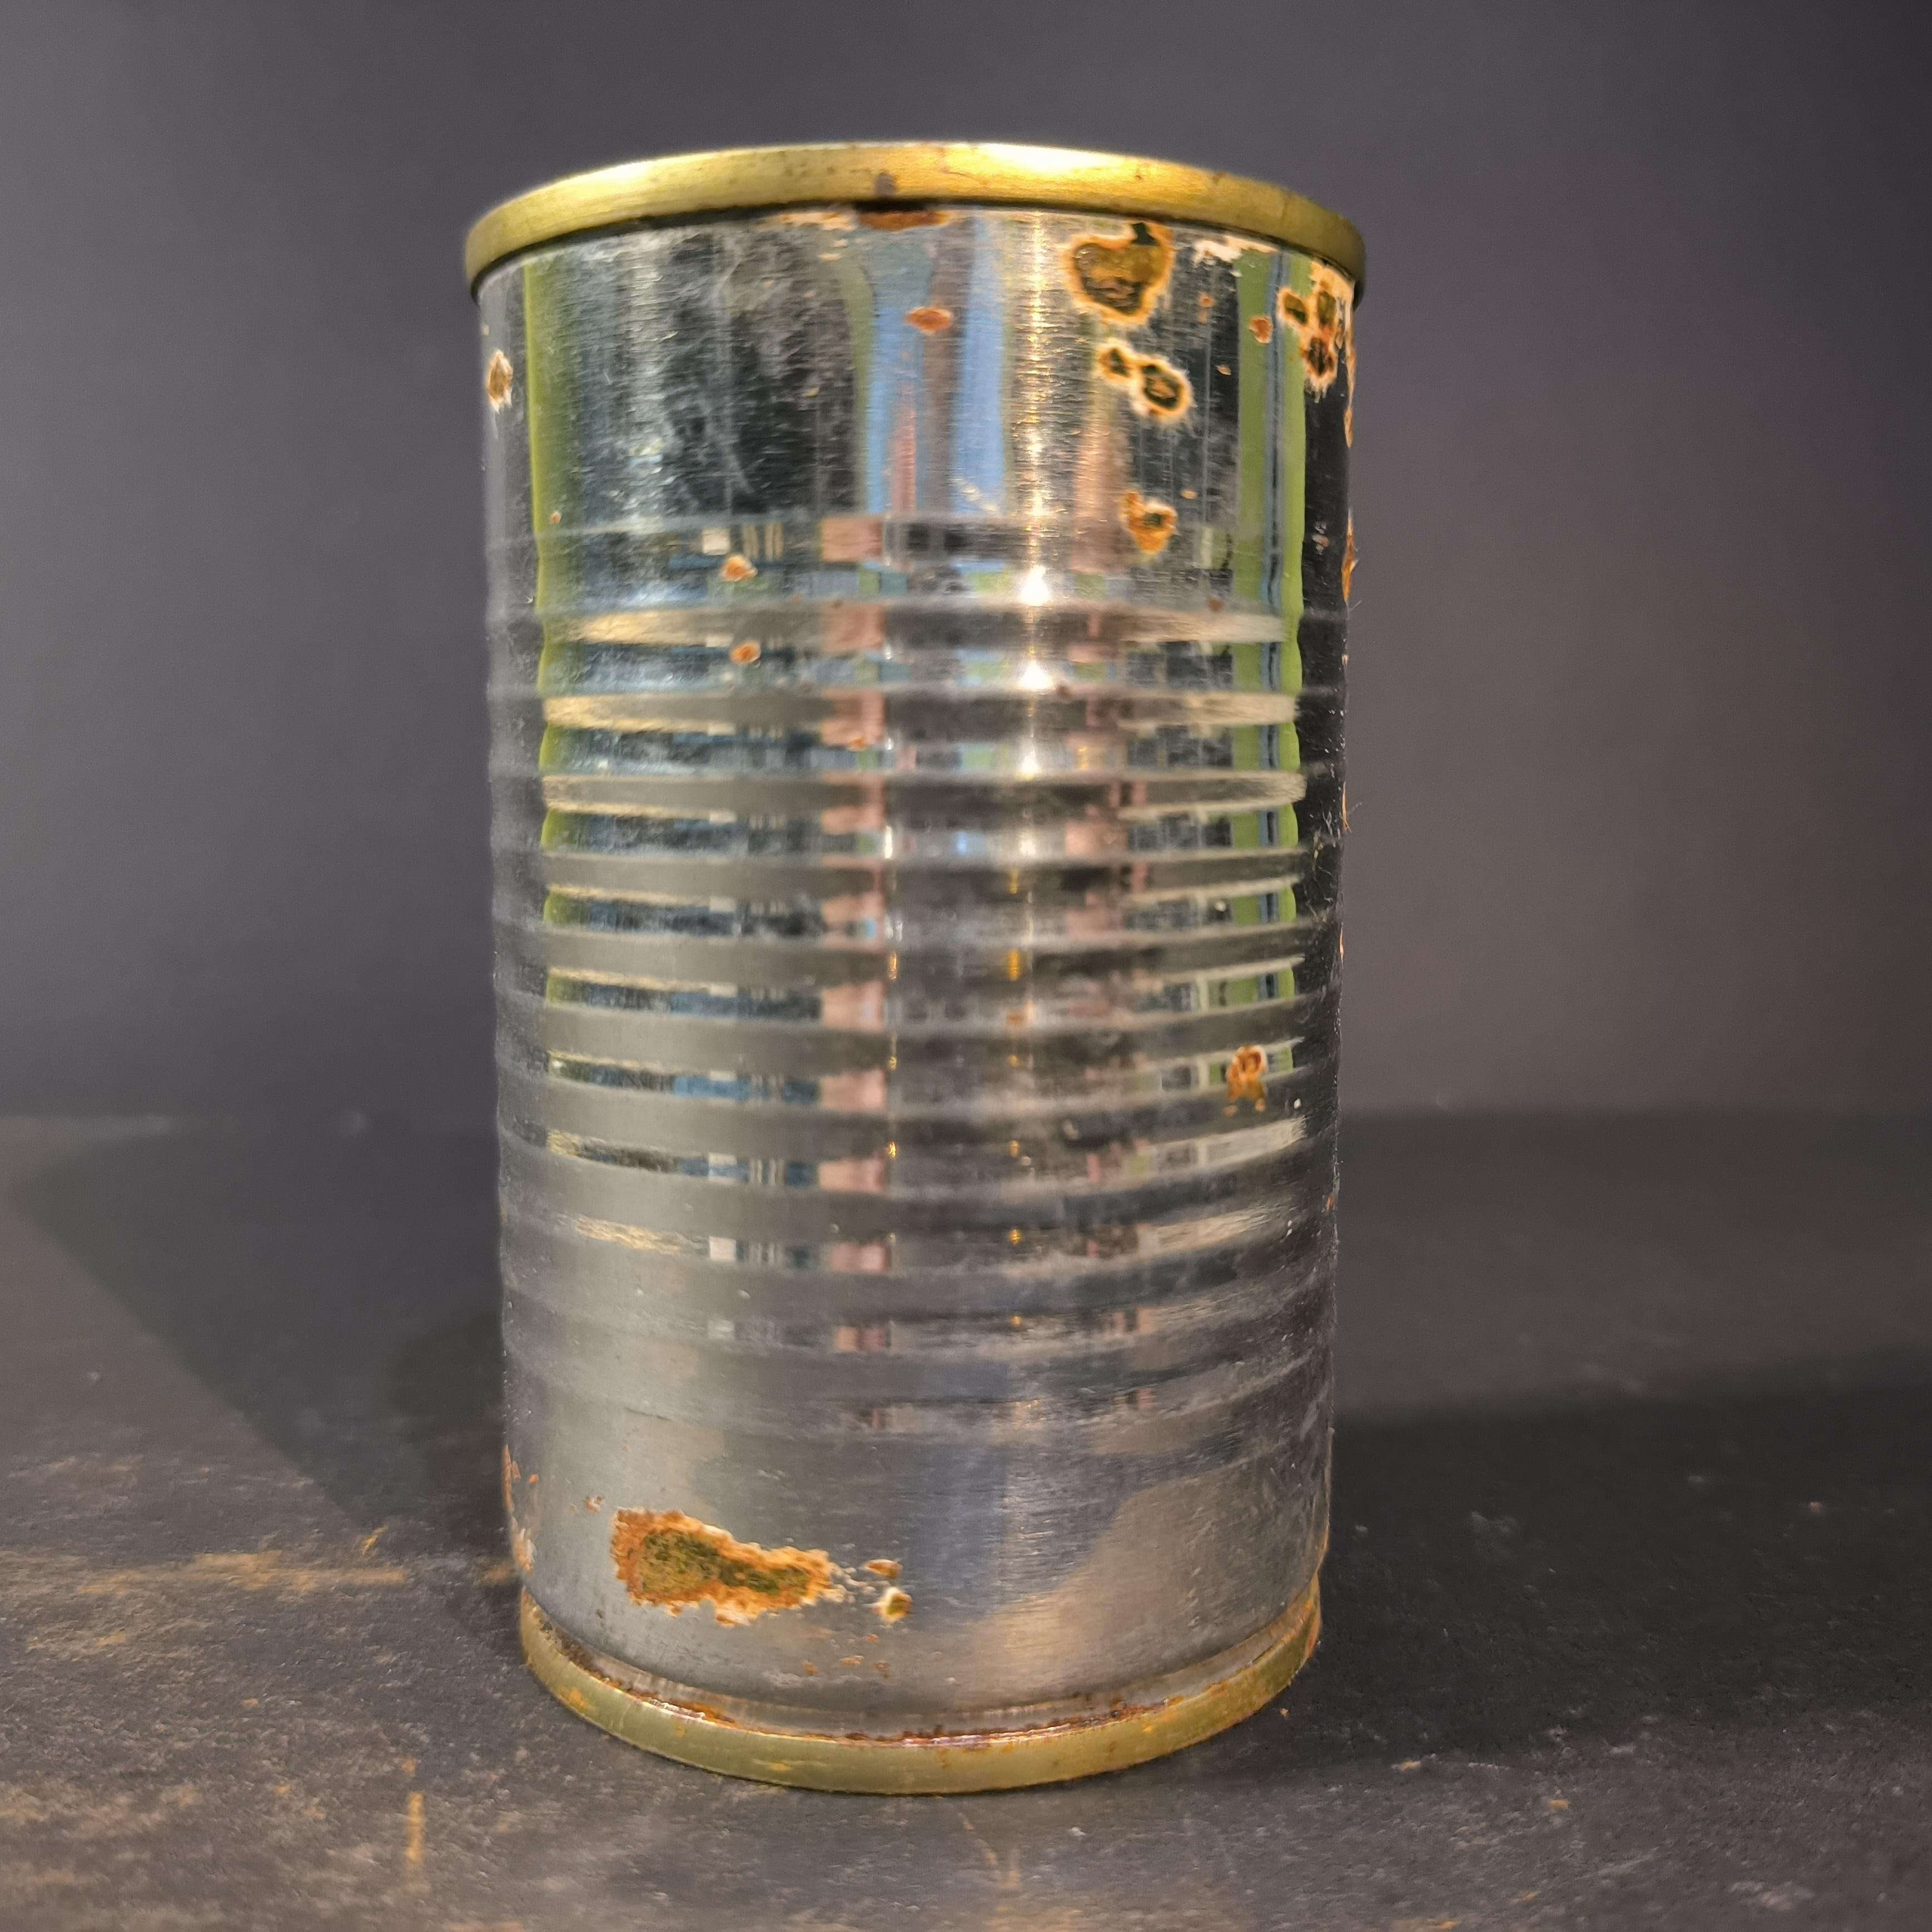Rusted: (439, 108, 1369, 1798)
